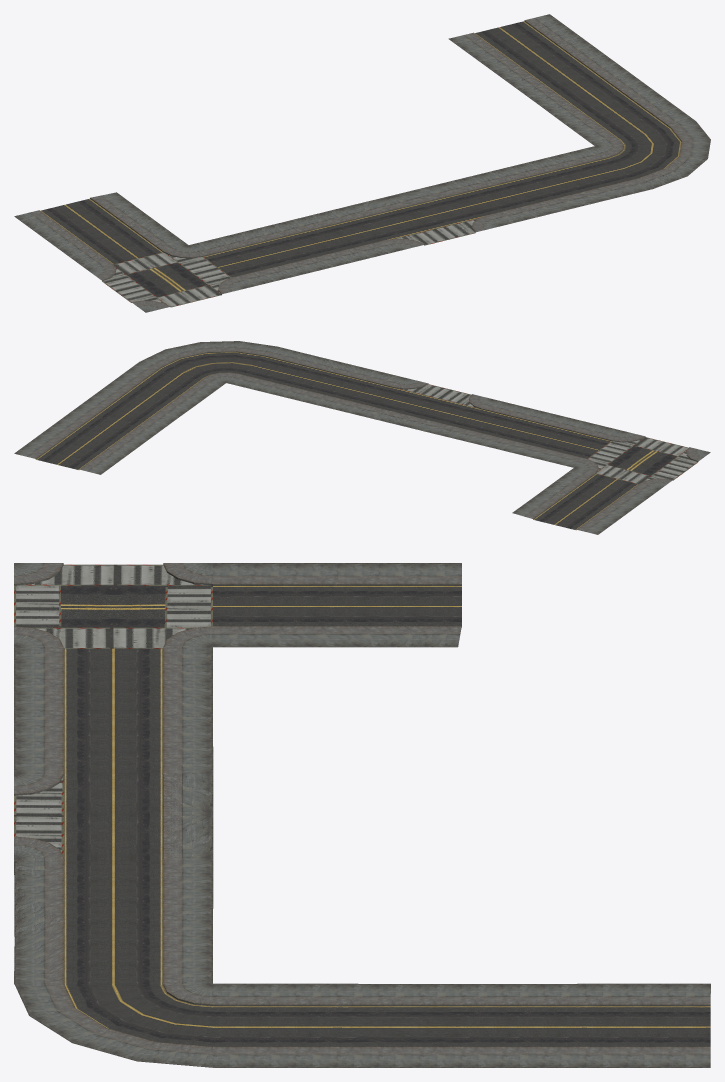
The model's file is cuntetownrd4a.obj.
The picture shows the model from 3 angles, top to bottom: view 1: azimuth 30°, elevation 25°; view 2: azimuth 150°, elevation 25°; view 3: azimuth 270°, elevation 25°; orthographic projection. The views are drawn at different scales.
Parts seen in each view (by area): view 1: cuntetownrd4a; view 2: cuntetownrd4a; view 3: cuntetownrd4a.
Boxes of the visible parts, left/top/right/bottom form: cuntetownrd4a: left=14, top=14, right=710, bottom=312; cuntetownrd4a: left=14, top=341, right=710, bottom=534; cuntetownrd4a: left=14, top=563, right=710, bottom=1067.
Size of the model in its own units: 120 by 0.1675 by 70.04.
3 materials, 3 textured.
